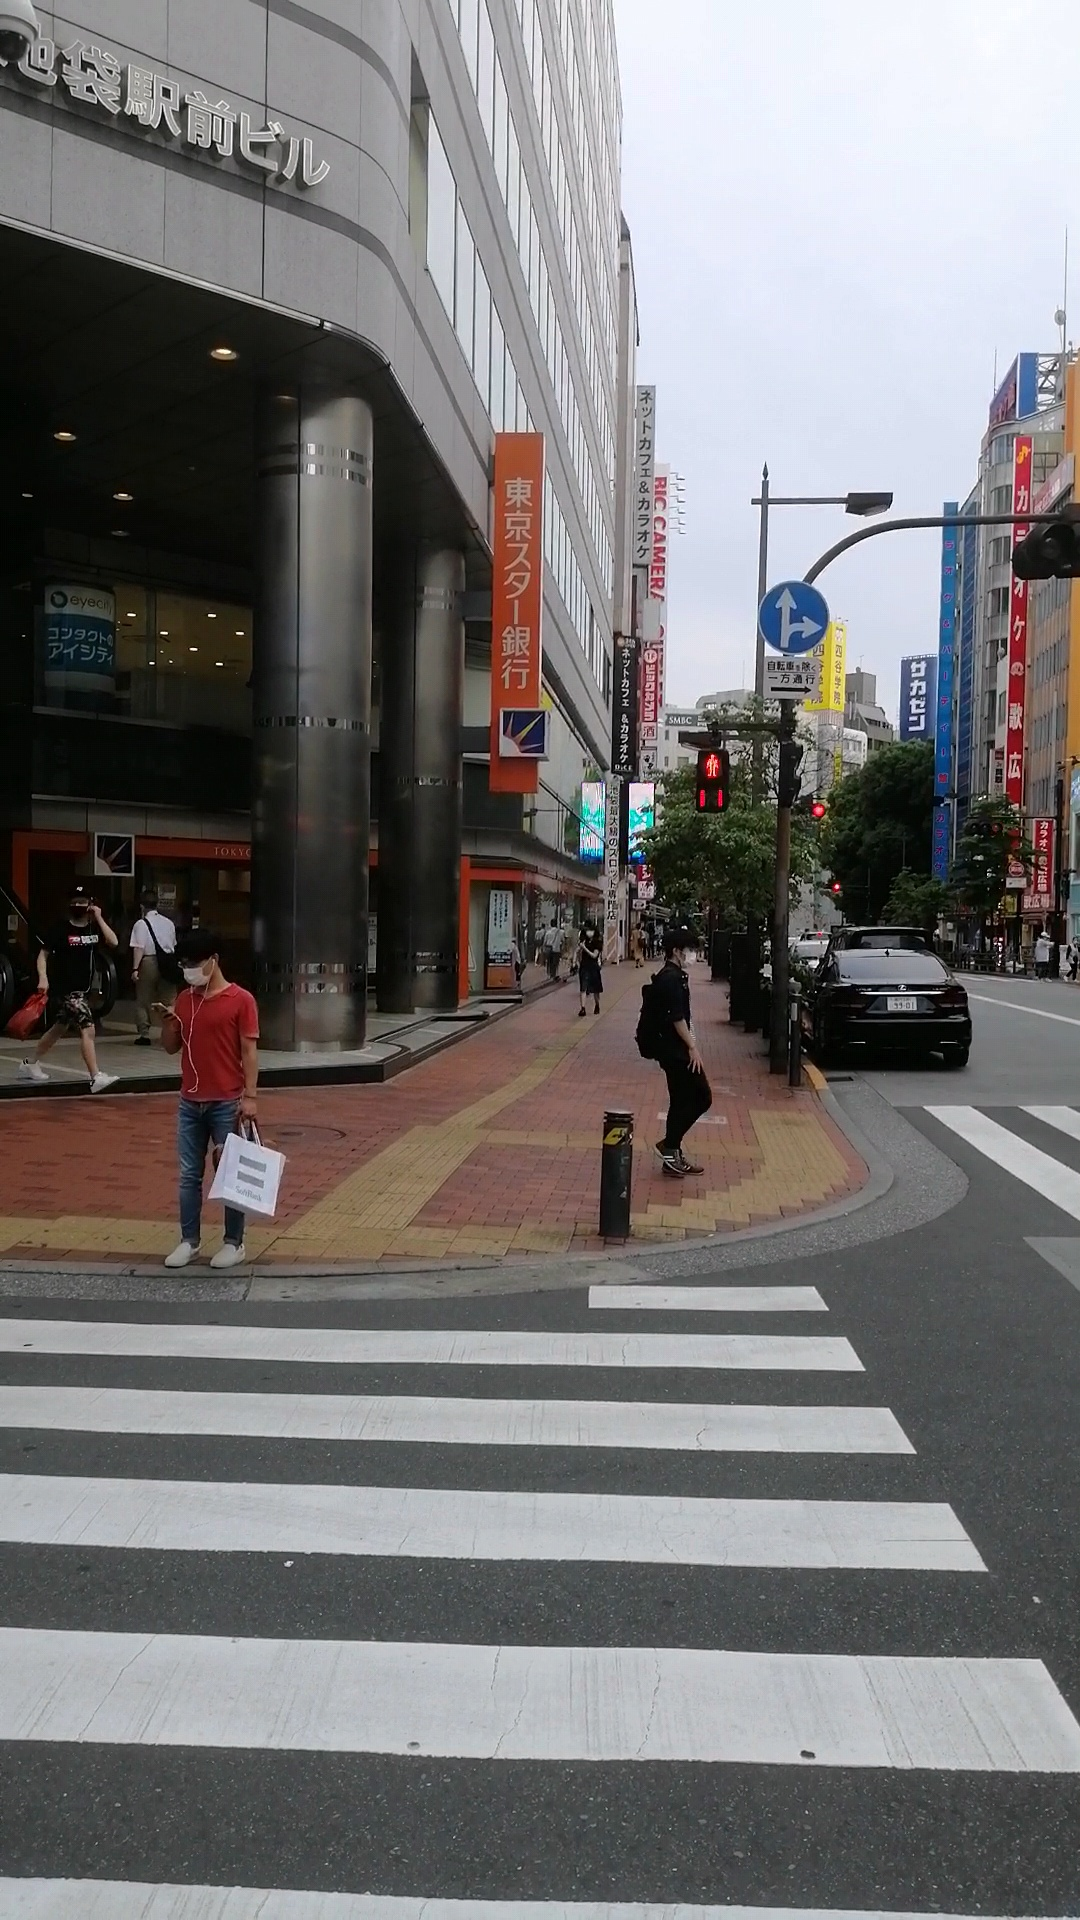red: (695, 749, 729, 812)
